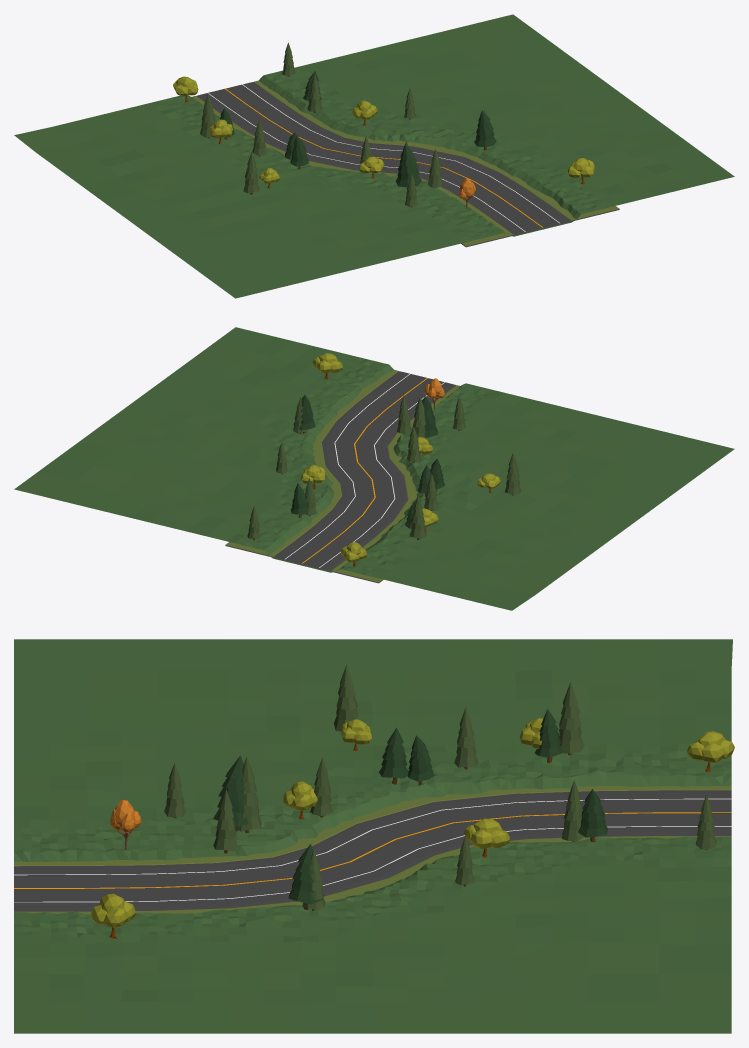
Rendered from ForestRoadStraight6.fbx.
3 renders of one model, top to bottom at view 1: azimuth 30°, elevation 25°; view 2: azimuth 150°, elevation 25°; view 3: azimuth 270°, elevation 25°, orthographic. The views are drawn at different scales.
Parts seen in each view (by area): view 1: FRS6Plane, FRS6Road, FRS6Plane|pineTree04|Dupli|11, FRS6Plane|pineTree04|Dupli|15, FRS6Plane|oakTree|Dupli|2; view 2: FRS6Plane, FRS6Road, FRS6Plane|oakTree|Dupli|2, FRS6Plane|pineTree05|Dupli|7; view 3: FRS6Plane, FRS6Road, FRS6Plane|pineTree05|Dupli|7, FRS6Plane|oakTree|Dupli|2, FRS6Plane|oakTree|Dupli|16, FRS6Plane|pineTree04|Dupli|11, FRS6Plane|oakTree|Dupli|18, FRS6Plane|pineTree04|Dupli|14, FRS6Plane|pineTree05|Dupli|21, FRS6Plane|pineTree04|Dupli|15, FRS6Plane|pineTree04|Dupli|12, FRS6Plane|pineTree05|Dupli|22 (+11 smaller).
Part boxes in pixels (bbox=[...]): FRS6Plane: bbox=[14, 14, 734, 298]; FRS6Road: bbox=[192, 80, 619, 247]; FRS6Plane|pineTree04|Dupli|11: bbox=[395, 144, 421, 189]; FRS6Plane|pineTree04|Dupli|15: bbox=[474, 110, 496, 150]; FRS6Plane|oakTree|Dupli|2: bbox=[568, 158, 595, 184]; FRS6Plane: bbox=[14, 327, 734, 610]; FRS6Road: bbox=[225, 370, 460, 583]; FRS6Plane|oakTree|Dupli|2: bbox=[312, 353, 342, 379]; FRS6Plane|pineTree05|Dupli|7: bbox=[409, 495, 426, 539]; FRS6Plane: bbox=[14, 639, 732, 1033]; FRS6Road: bbox=[14, 786, 731, 914]; FRS6Plane|pineTree05|Dupli|7: bbox=[559, 682, 584, 755]; FRS6Plane|oakTree|Dupli|2: bbox=[91, 893, 135, 939]; FRS6Plane|oakTree|Dupli|16: bbox=[687, 731, 734, 772]; FRS6Plane|pineTree04|Dupli|11: bbox=[213, 755, 248, 831]; FRS6Plane|oakTree|Dupli|18: bbox=[464, 818, 509, 857]; FRS6Plane|pineTree04|Dupli|14: bbox=[379, 727, 408, 784]; FRS6Plane|pineTree05|Dupli|21: bbox=[235, 756, 261, 832]; FRS6Plane|pineTree04|Dupli|15: bbox=[288, 844, 323, 910]; FRS6Plane|pineTree04|Dupli|12: bbox=[578, 789, 607, 842]; FRS6Plane|pineTree05|Dupli|22: bbox=[213, 789, 238, 853].
Size of what is drawn, in the model's own units: 26000 by 2605 by 20093.
